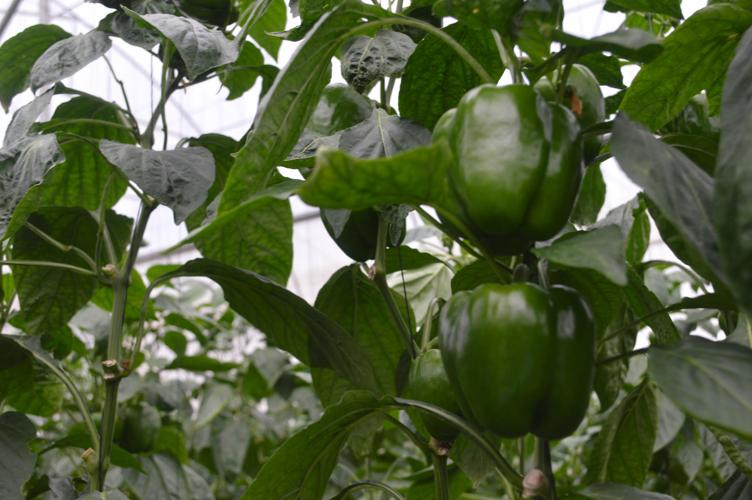BellPepper: (417, 77, 594, 264), (430, 279, 599, 443)
